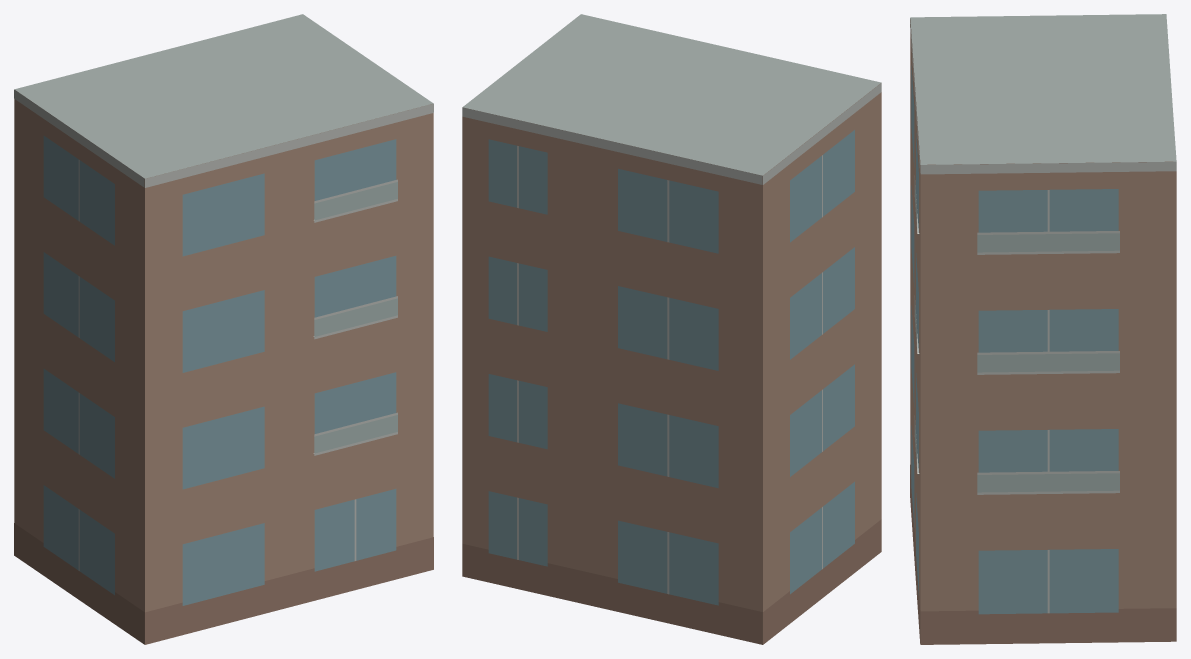
Rendered from residential-f1c4a0fb-d198-48ab-a864-6659ac83adf2.glb.
3 views of the same model, side by side, from view 1: azimuth 30°, elevation 25°; view 2: azimuth 150°, elevation 25°; view 3: azimuth 270°, elevation 25° (orthographic). The views are drawn at different scales.
Visible parts, largest first — view 1: residential-f1c4a0fb-d198-48ab-a864-6659ac83adf2.tmp; view 2: residential-f1c4a0fb-d198-48ab-a864-6659ac83adf2.tmp; view 3: residential-f1c4a0fb-d198-48ab-a864-6659ac83adf2.tmp.
Boxes of the visible parts, bbox=[...] form: residential-f1c4a0fb-d198-48ab-a864-6659ac83adf2.tmp: bbox=[14, 14, 433, 644]; residential-f1c4a0fb-d198-48ab-a864-6659ac83adf2.tmp: bbox=[462, 14, 881, 644]; residential-f1c4a0fb-d198-48ab-a864-6659ac83adf2.tmp: bbox=[910, 14, 1176, 644].
Size of the model in its own units: 8.23 by 12.2 by 6.15.
